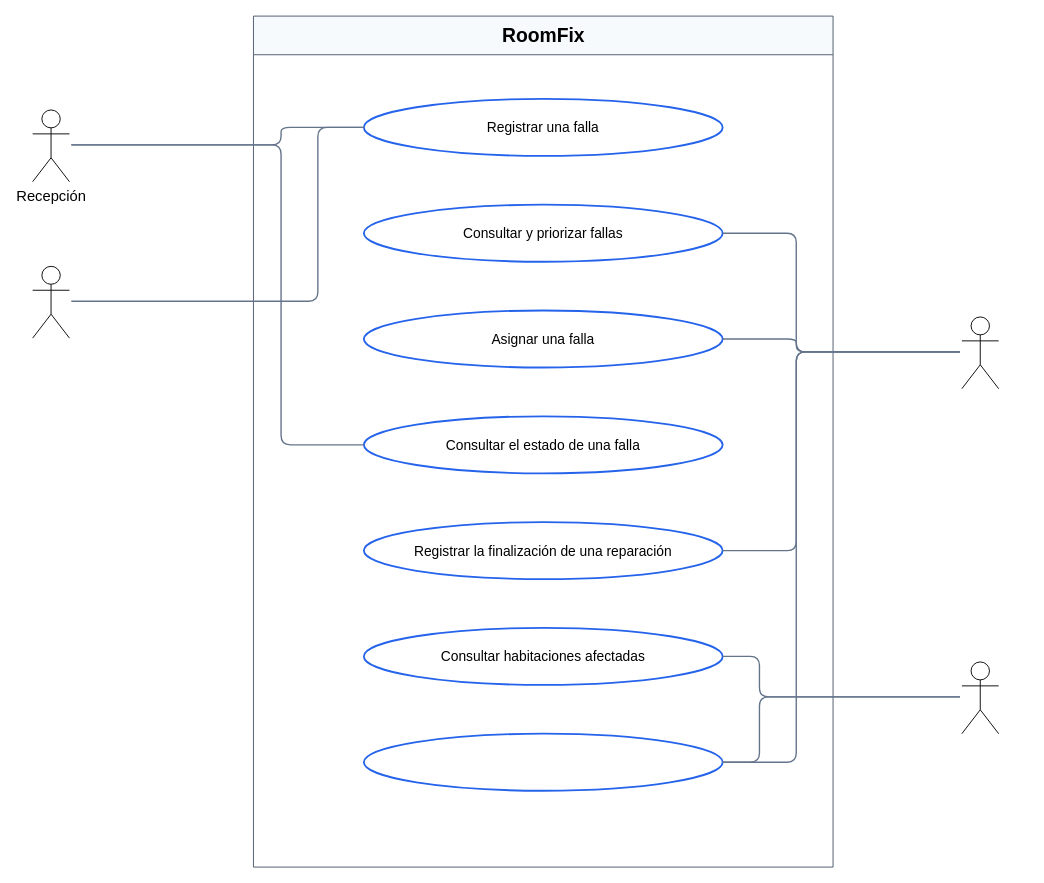
Image size: 1044x883. Some labels were removed from this diagram. The centre of each missing label's shape, as x and y in pixels:
Consultar historial de una habitación: pixel 542 761
Gerencia: pixel 980 697
Limpieza: pixel 50 301
Mantenimiento: pixel 980 352
